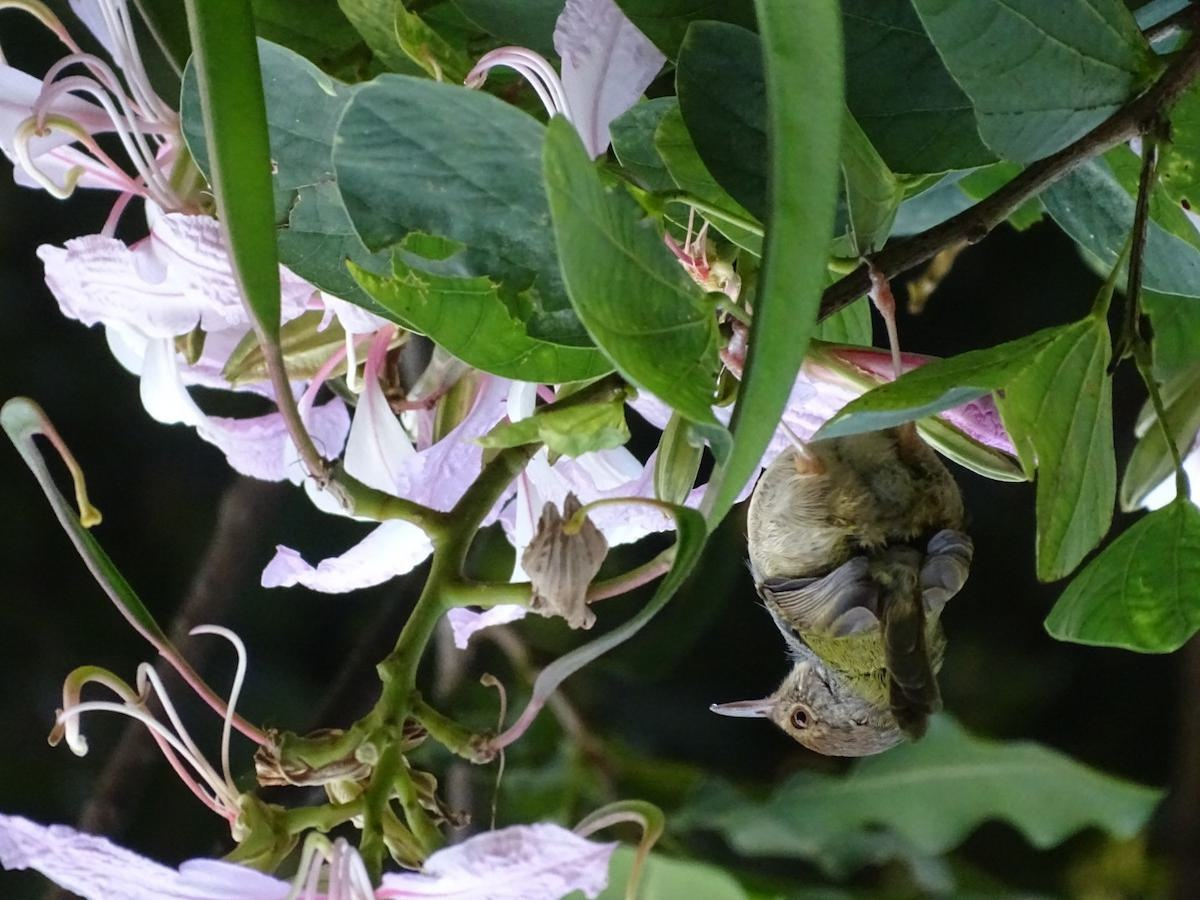tailorbird: (691, 236, 971, 793)
